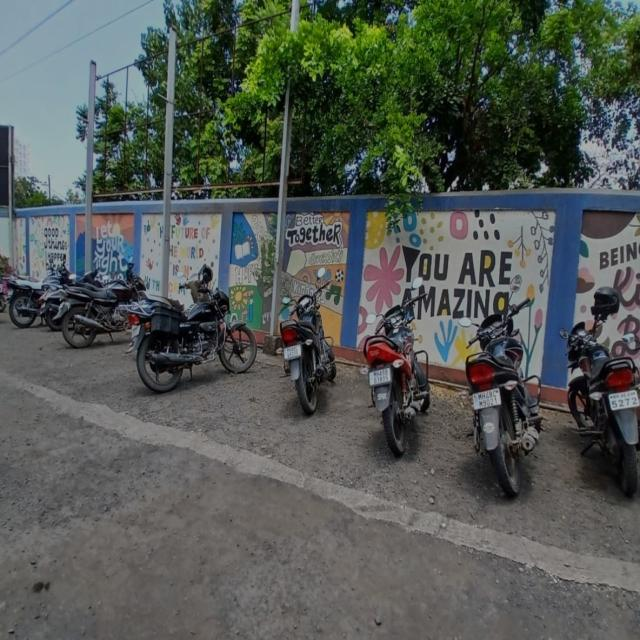Legalparking: (2, 242, 640, 520)
